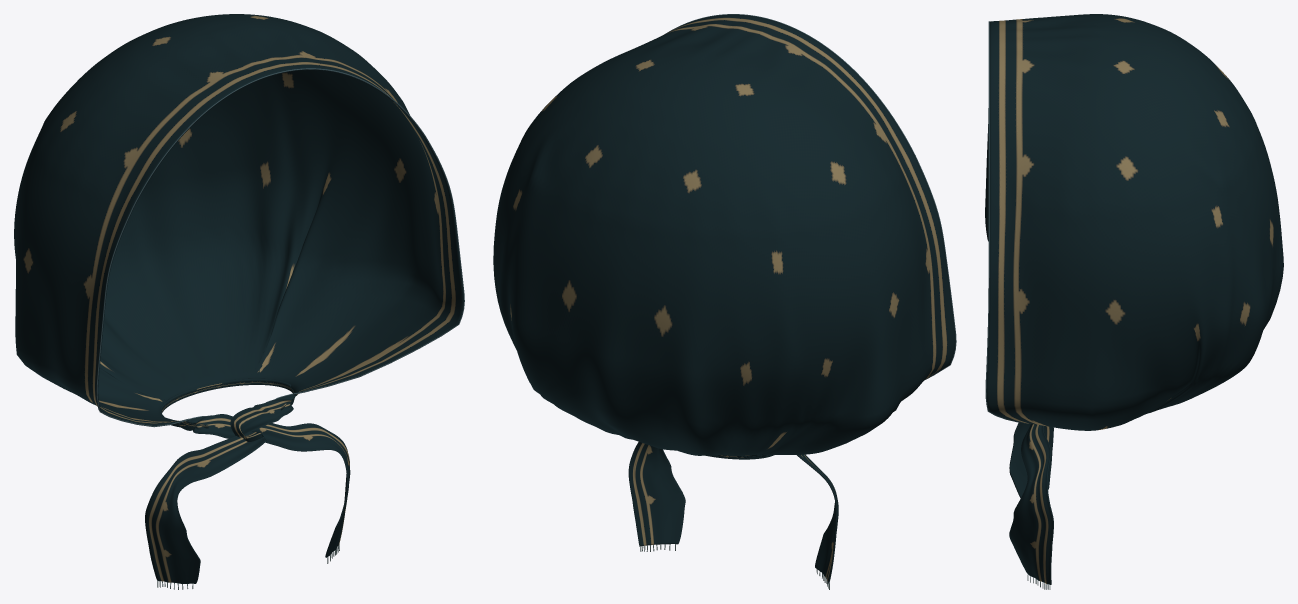
The model's file is Feminine-bandeau-pashmina244-headgear.glb.
3 renders of one model, left to right at view 1: azimuth 30°, elevation 25°; view 2: azimuth 150°, elevation 25°; view 3: azimuth 270°, elevation 25°, orthographic. The views are drawn at different scales.
Parts seen in each view (by area): view 1: 226 headgear / Headwear / continuous woven pashmina239, 226 headgear / Headwear / face edge239; view 2: 226 headgear / Headwear / continuous woven pashmina239, 226 headgear / Headwear / face edge239; view 3: 226 headgear / Headwear / continuous woven pashmina239, 226 headgear / Headwear / face edge239.
Boxes of the visible parts, left/top/right/bottom form: 226 headgear / Headwear / continuous woven pashmina239: left=14, top=14, right=463, bottom=583; 226 headgear / Headwear / face edge239: left=96, top=68, right=464, bottom=427; 226 headgear / Headwear / continuous woven pashmina239: left=493, top=14, right=955, bottom=583; 226 headgear / Headwear / face edge239: left=664, top=14, right=956, bottom=379; 226 headgear / Headwear / continuous woven pashmina239: left=985, top=14, right=1283, bottom=584; 226 headgear / Headwear / face edge239: left=985, top=21, right=1027, bottom=423.
Size of the model in its own units: 1.02 by 1.35 by 0.7116.
3 materials, 1 textured.
